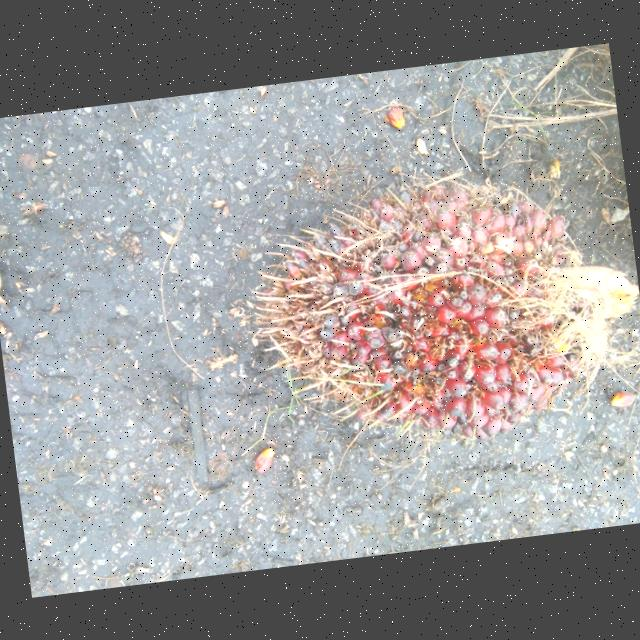Ripe: (252, 180, 632, 439)
